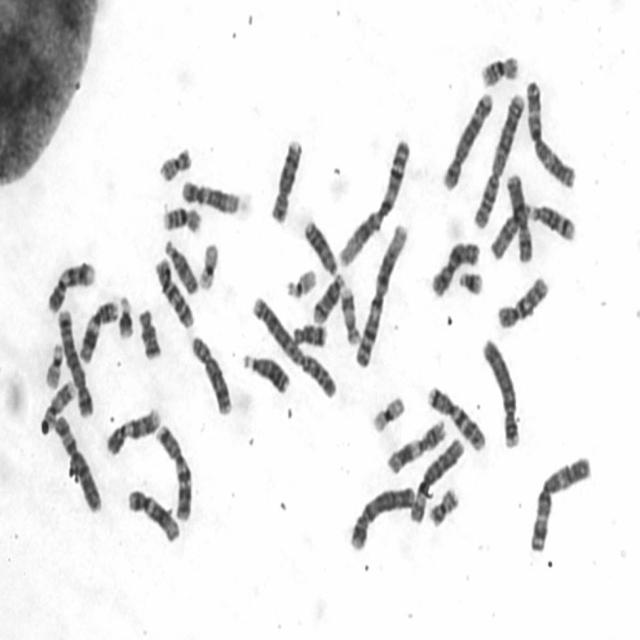A1: (337, 136, 411, 268), (354, 221, 408, 370)
A2: (252, 295, 339, 401), (471, 92, 526, 230)
A3: (529, 453, 595, 554), (525, 80, 576, 189)
B4: (481, 338, 522, 450), (350, 485, 415, 555)
B5: (442, 91, 493, 192), (58, 308, 94, 418)
C10: (496, 272, 548, 332), (154, 256, 195, 328)
C11: (386, 418, 445, 476), (78, 301, 119, 363)
C12: (127, 488, 180, 543), (181, 180, 240, 216)
C6: (408, 437, 466, 525), (52, 413, 102, 513)
C7: (427, 386, 487, 454), (155, 425, 193, 525)
C8: (190, 334, 234, 418), (270, 136, 304, 226)
C9: (105, 405, 162, 457), (47, 260, 96, 313)
D13: (242, 351, 292, 396), (304, 221, 338, 276)
D14: (530, 202, 578, 244), (311, 273, 345, 326)
D15: (490, 205, 530, 261), (163, 237, 200, 296)
E16: (479, 52, 519, 90), (161, 205, 203, 235)
E17: (40, 381, 76, 433), (339, 286, 361, 345)
E18: (136, 307, 164, 362), (294, 323, 328, 348)
F19: (369, 395, 406, 435), (198, 242, 219, 292)
F20: (428, 485, 461, 529), (158, 146, 193, 184)
G21: (118, 292, 135, 342), (457, 269, 484, 298)
G22: (41, 343, 64, 393), (286, 268, 317, 300)
X: (431, 239, 481, 300), (506, 173, 534, 263)
